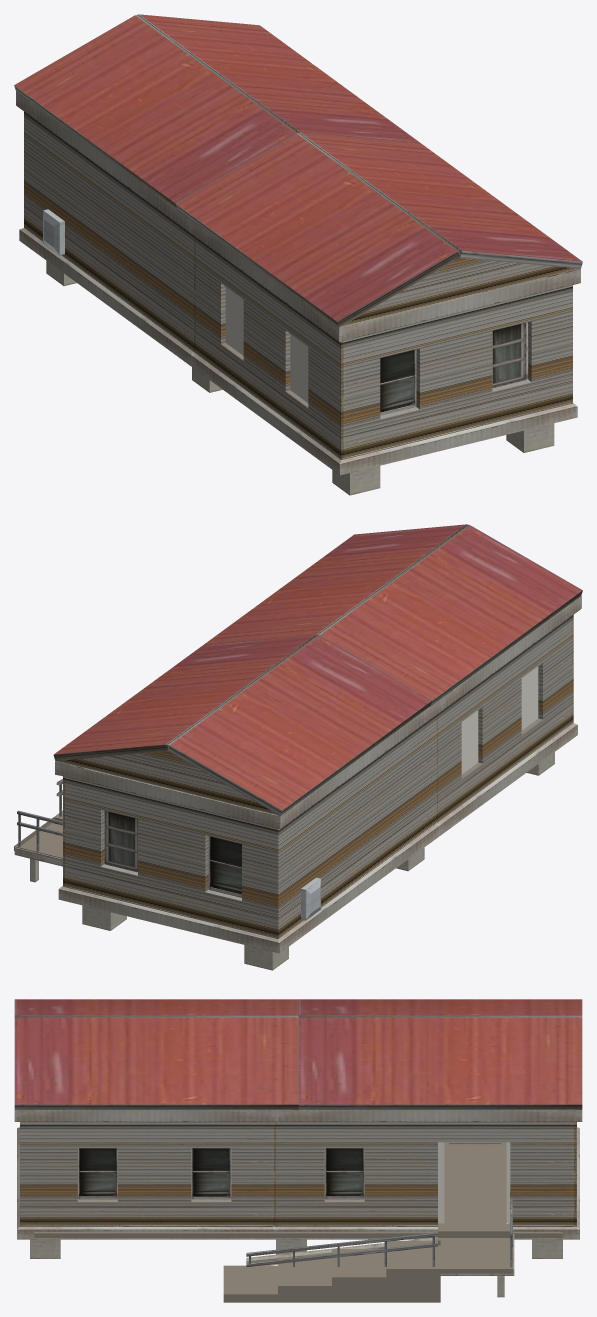
Rendered from rural-mobile-home.zfix-v14.lod0.glb.
3 views of the same model, one above another, from view 1: azimuth 30°, elevation 25°; view 2: azimuth 150°, elevation 25°; view 3: azimuth 270°, elevation 25° (orthographic). The views are drawn at different scales.
Parts seen in each view (by area): view 1: Rural_UnmobileHome_1_Rural_Trailer_Stuff_1_0, Rural_UnmobileHome_1_Rural_Facade_FLR_2_0, Walkable floors and stairs; view 2: Rural_UnmobileHome_1_Rural_Trailer_Stuff_1_0, Rural_UnmobileHome_1_Rural_Facade_FLR_2_0, Walkable floors and stairs (×2); view 3: Rural_UnmobileHome_1_Rural_Trailer_Stuff_1_0, Walkable floors and stairs (×2), Rural_UnmobileHome_1_Rural_Facade_FLR_2_0.
Part boxes in pixels (x1,y1,x2,y2): Rural_UnmobileHome_1_Rural_Trailer_Stuff_1_0: (14,14,582,459); Rural_UnmobileHome_1_Rural_Facade_FLR_2_0: (16,91,580,495); Walkable floors and stairs: (225,277,546,402); Rural_UnmobileHome_1_Rural_Trailer_Stuff_1_0: (53,524,582,938); Rural_UnmobileHome_1_Rural_Facade_FLR_2_0: (14,596,581,970); Walkable floors and stairs (×2): (14,666,538,858); Rural_UnmobileHome_1_Rural_Trailer_Stuff_1_0: (14,999,582,1226); Walkable floors and stairs (×2): (34,1142,562,1302); Rural_UnmobileHome_1_Rural_Facade_FLR_2_0: (14,1109,582,1297).
Size of the model in its own units: 6.67 by 4.39 by 11.41.
4 materials, 2 textured.
